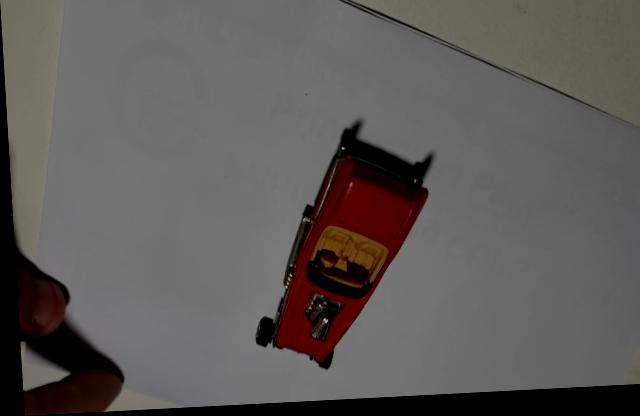03_V8: (249, 132, 432, 371)
